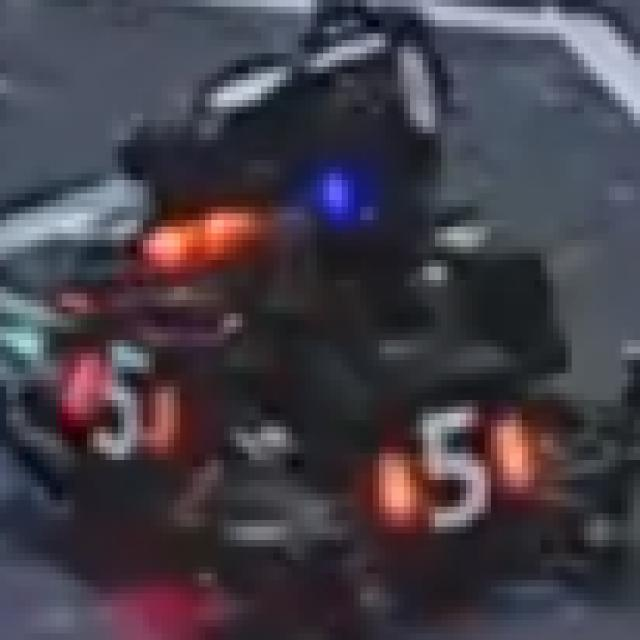R5: (373, 400, 534, 533), (62, 346, 174, 466)
